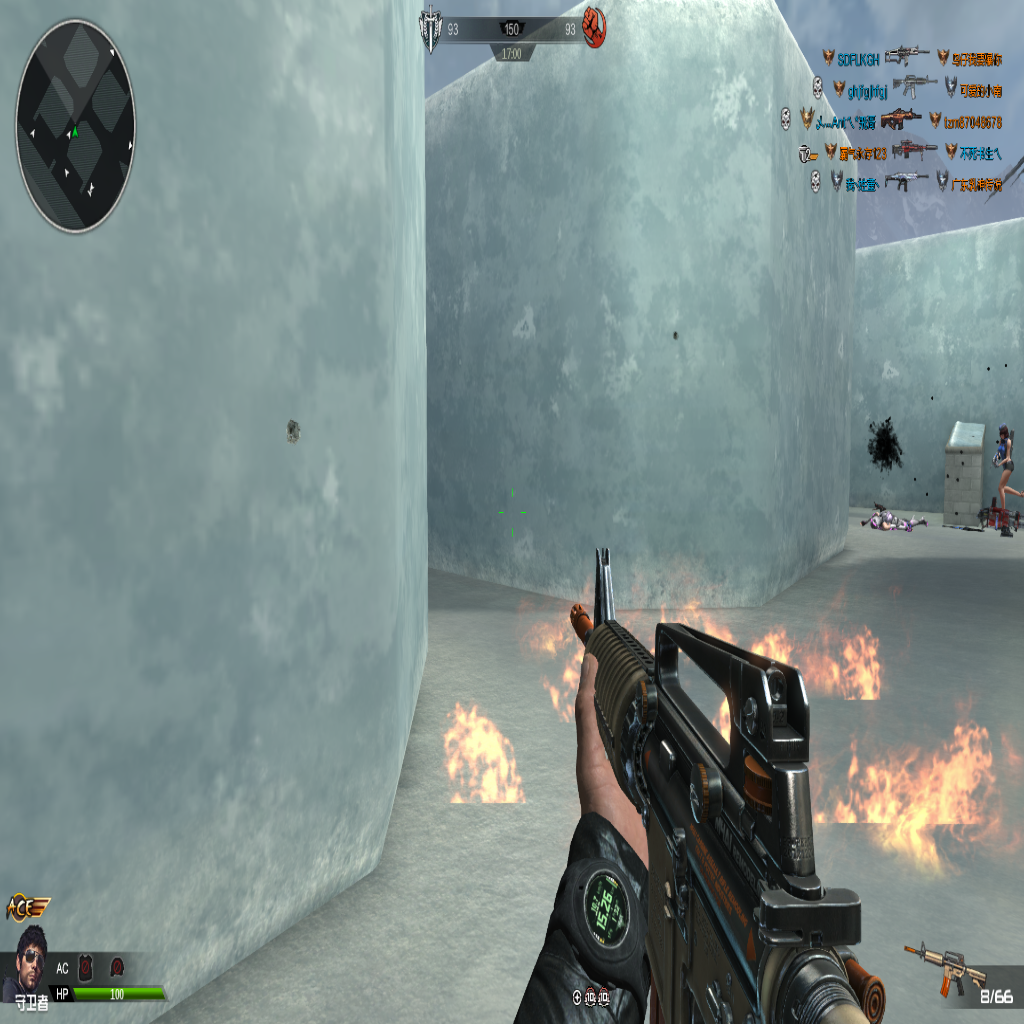ct: (991, 422, 1018, 521)
